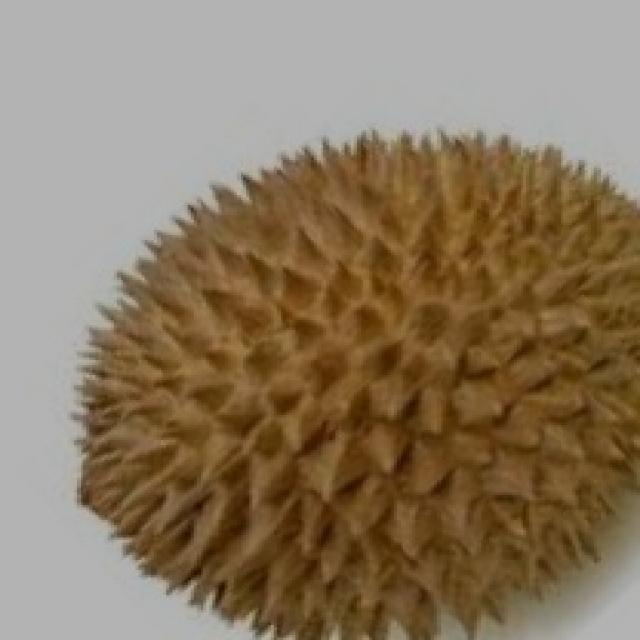fruit: (31, 257, 391, 640)
